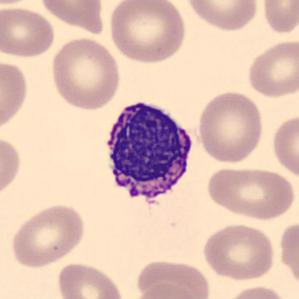Basophil: (96, 92, 199, 219)
RBC: (49, 35, 122, 112), (204, 164, 298, 222), (195, 88, 265, 165), (8, 201, 87, 269), (106, 0, 188, 65), (200, 220, 277, 282), (245, 38, 298, 99), (134, 257, 212, 298), (0, 4, 57, 59), (56, 259, 126, 299), (184, 0, 261, 32), (0, 57, 31, 135), (37, 0, 107, 33), (270, 111, 299, 181), (276, 217, 299, 292), (0, 132, 23, 201), (259, 0, 298, 36), (129, 281, 201, 299), (222, 283, 291, 299), (0, 0, 39, 7)
